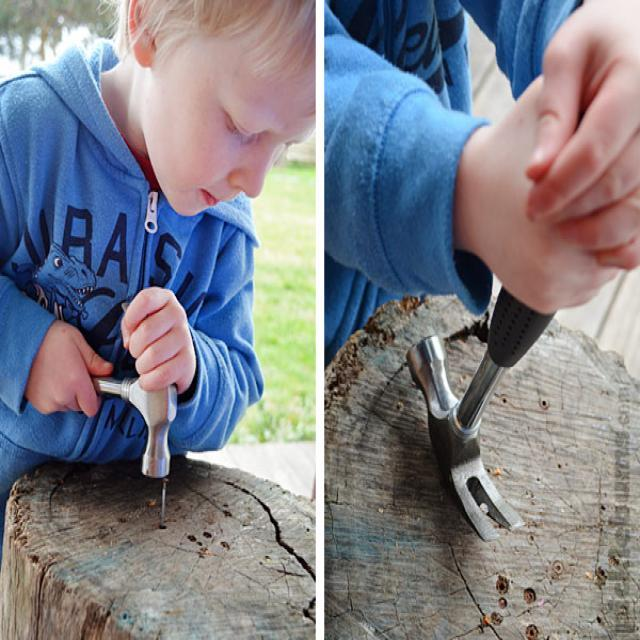hammer: (400, 278, 550, 554), (82, 354, 192, 498)
